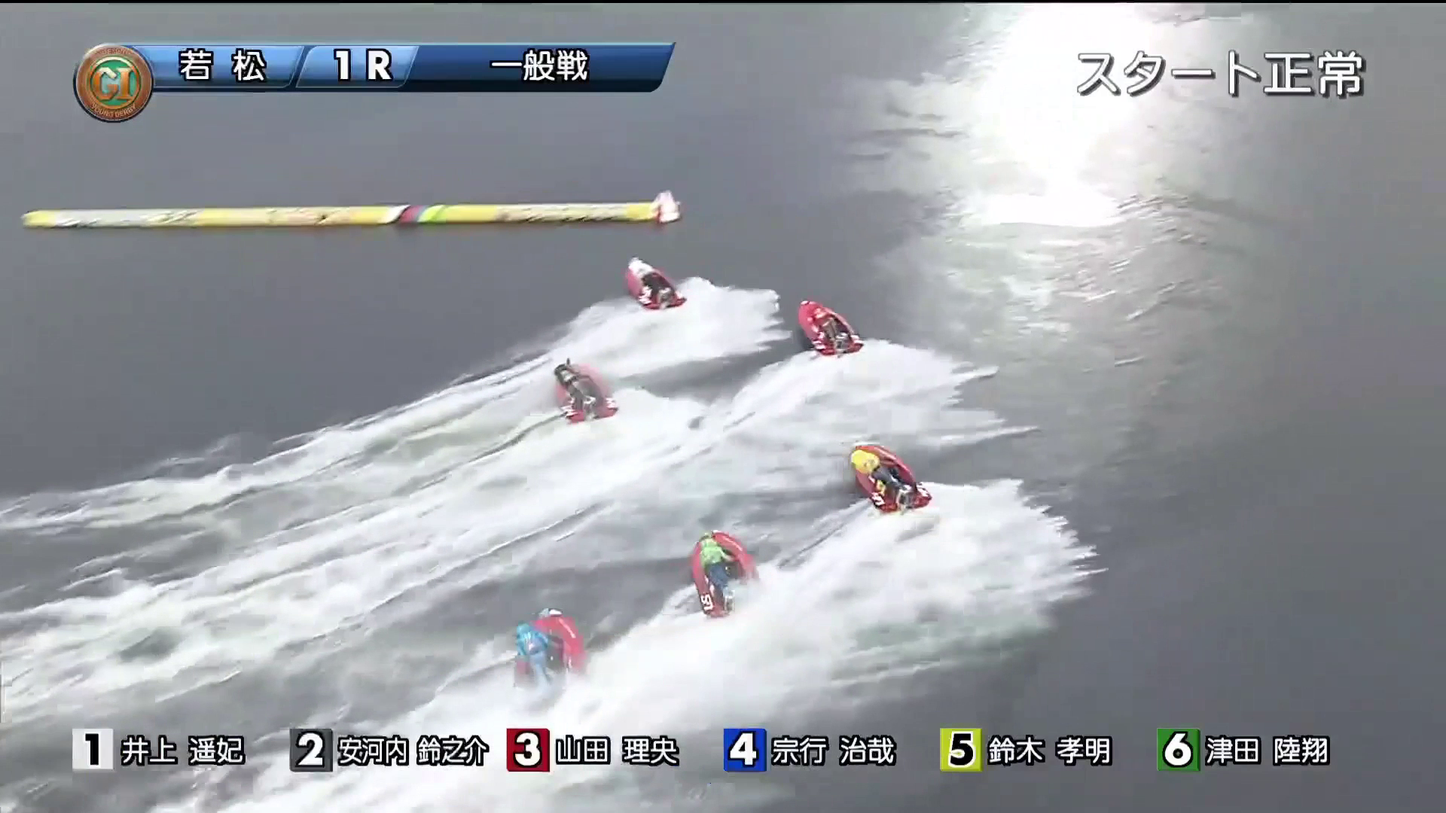１号艇: (616, 251, 686, 304)
２号艇: (535, 365, 664, 425)
３号艇: (786, 298, 884, 345)
４号艇: (670, 537, 804, 603)
５号艇: (482, 626, 606, 681)
６号艇: (857, 449, 957, 505)
